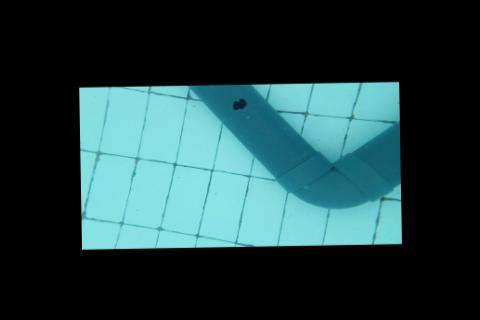kebocoran: (230, 96, 248, 110)
